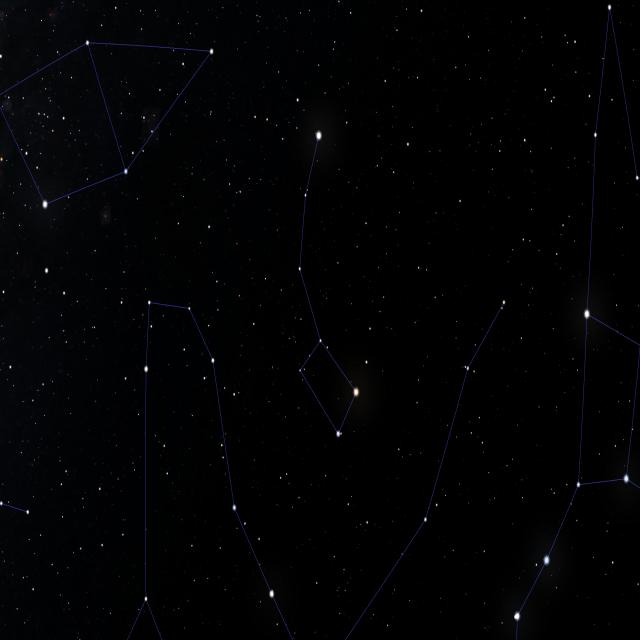Ursa Minor: (278, 99, 367, 448)
